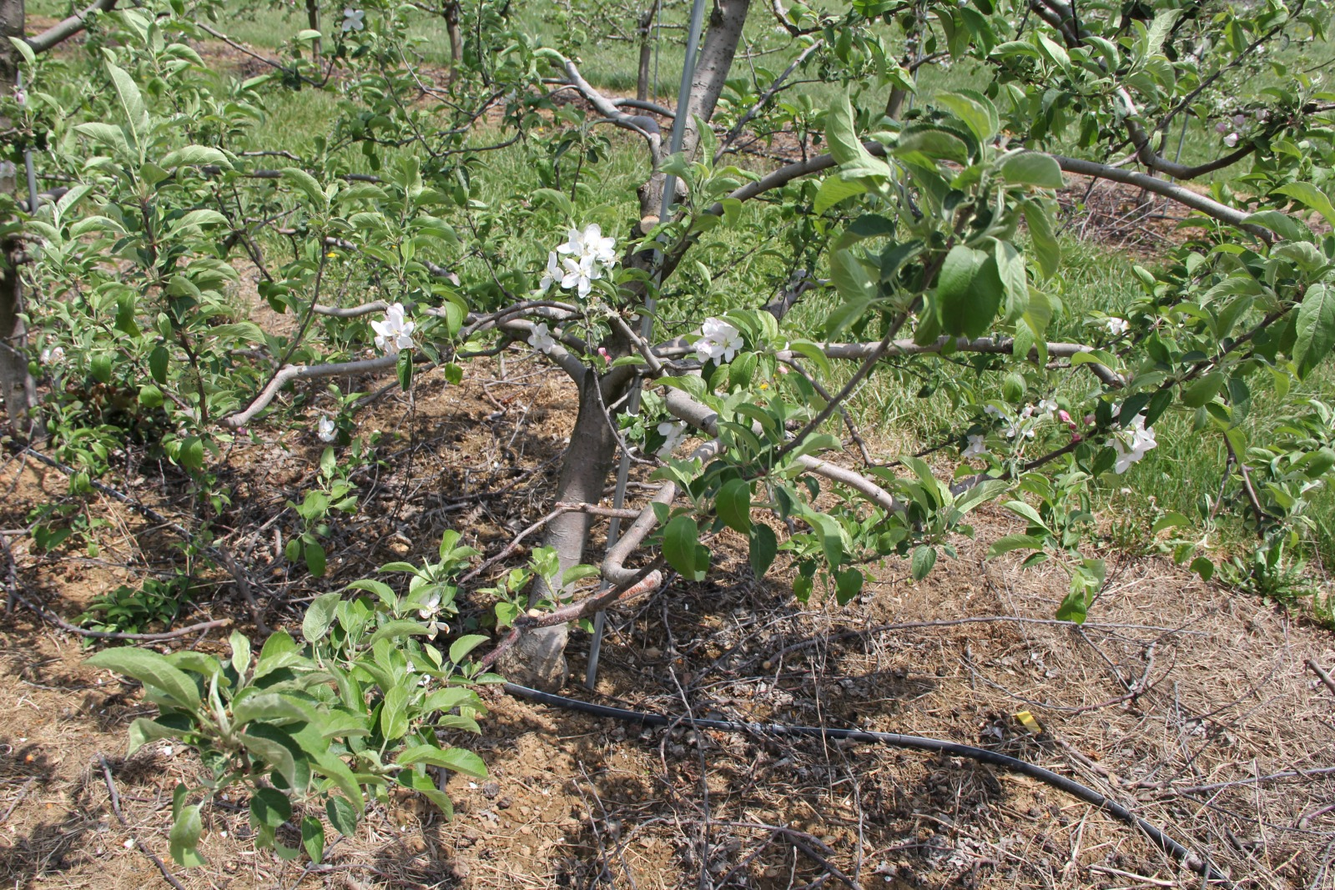flower: (540, 221, 618, 299), (1104, 414, 1158, 475), (688, 318, 744, 367), (371, 303, 416, 357), (420, 597, 451, 641), (657, 420, 693, 457), (528, 323, 556, 354), (960, 435, 992, 461), (341, 8, 365, 32), (316, 415, 335, 442), (983, 405, 1010, 421), (1040, 399, 1059, 419), (1020, 403, 1037, 423), (1006, 427, 1015, 437)
